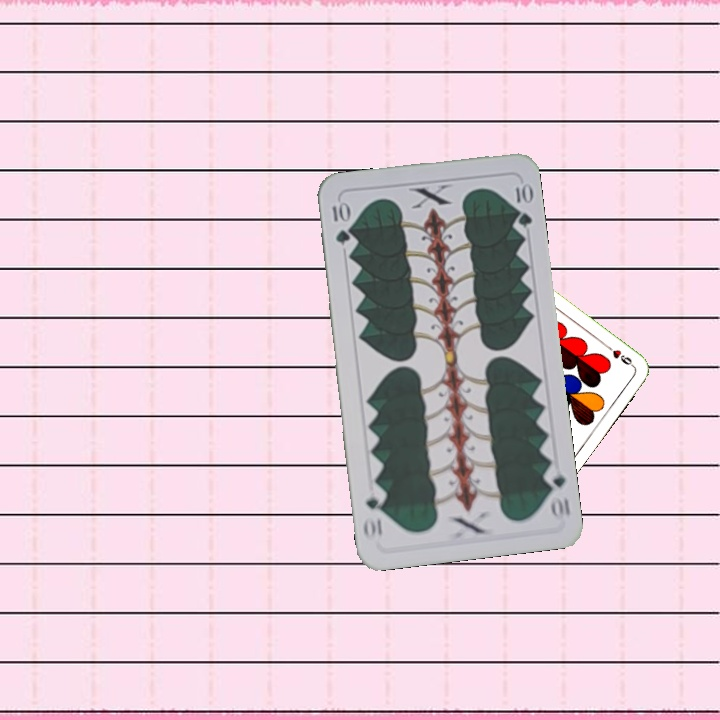G10: (541, 464, 573, 523), (328, 197, 352, 247)
H9: (601, 341, 636, 369)
